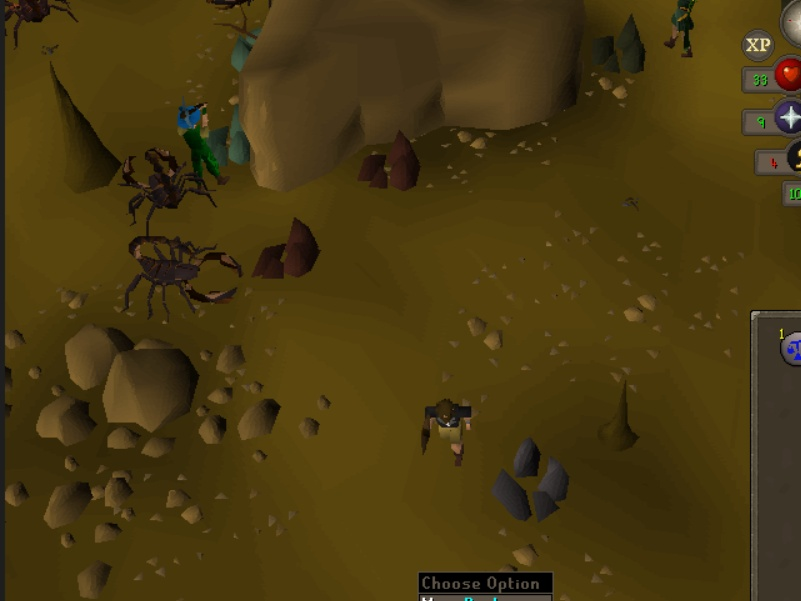adamant: (206, 102, 267, 167), (226, 24, 263, 78)
coal: (587, 2, 659, 87)
iron: (358, 125, 428, 194), (252, 215, 322, 284)
